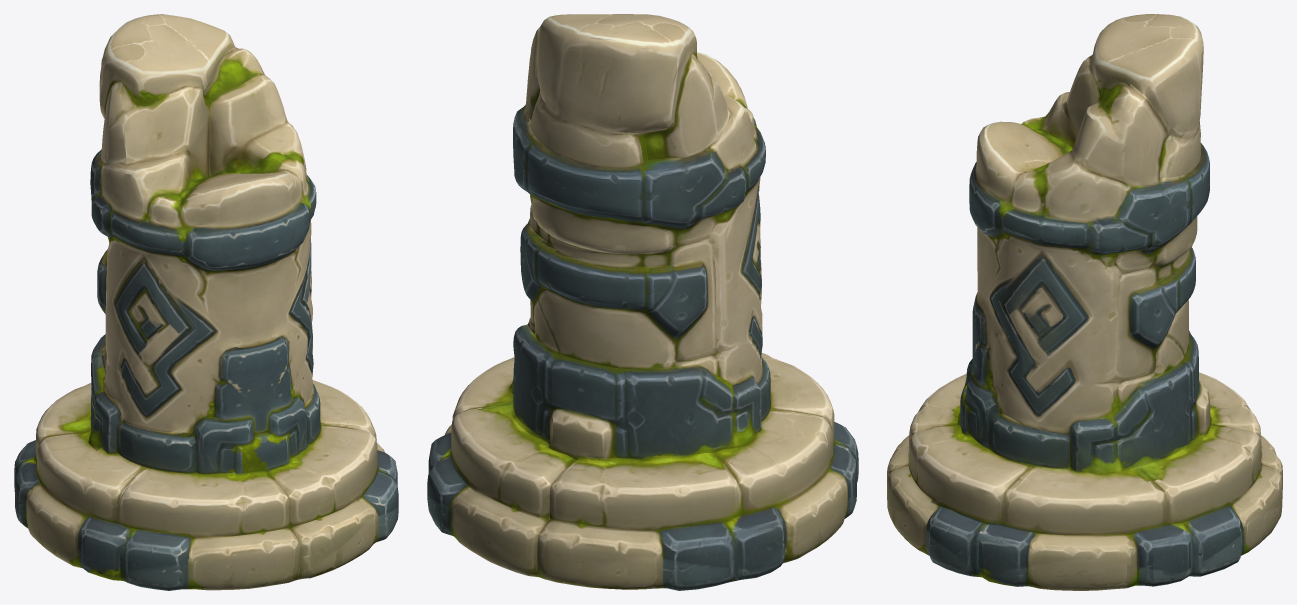
Rendered from VD_Prop_BrokenTotem_01-0.fbx.
The picture shows the model from 3 angles, left to right: view 1: azimuth 30°, elevation 25°; view 2: azimuth 150°, elevation 25°; view 3: azimuth 270°, elevation 25°; orthographic projection. The views are drawn at different scales.
Visible parts, largest first — view 1: Mesh0; view 2: Mesh0; view 3: Mesh0.
Boxes of the visible parts, box(x1,y1,x2,y2) form: Mesh0: box(14, 14, 398, 590); Mesh0: box(427, 14, 858, 590); Mesh0: box(887, 14, 1282, 590).
Bounding box in the file's own units: 221 × 300 × 226.
1 material, 1 textured.
